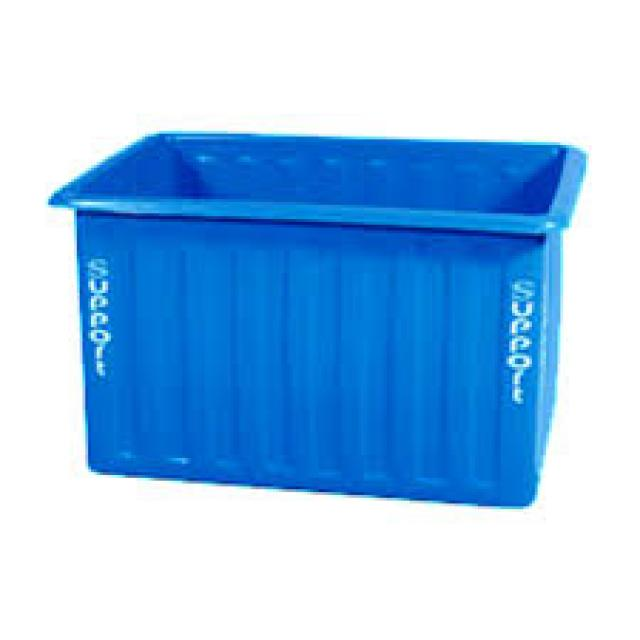basket: (41, 125, 585, 509)
